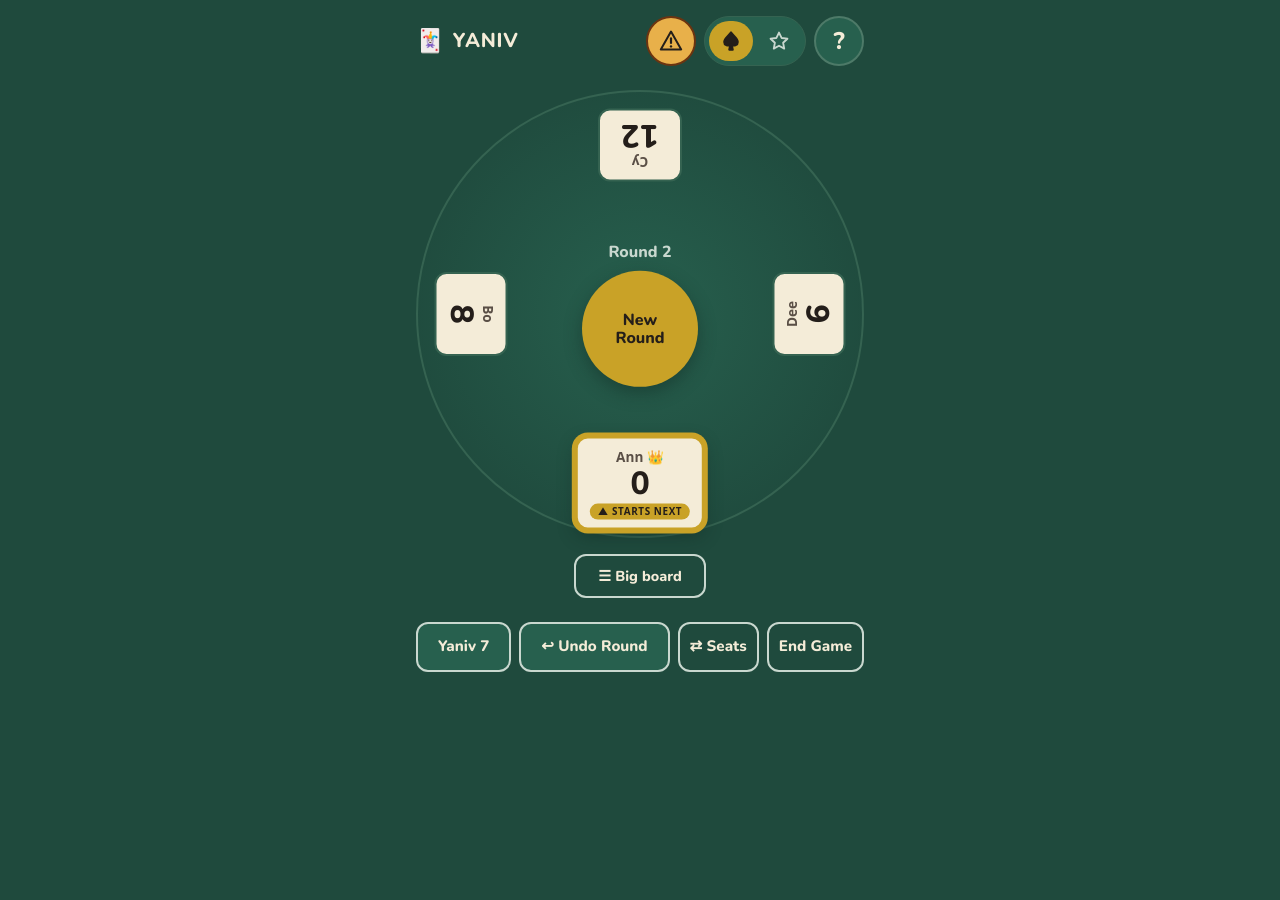
it: End game — the confirmation cannot be bypassed › the DESTRUCTIVE choice is neither the default focus nor the default Enter target
This screenshot has width=1280, height=900.
Click the button "End Game" at [815, 647], box [767, 622, 864, 672]
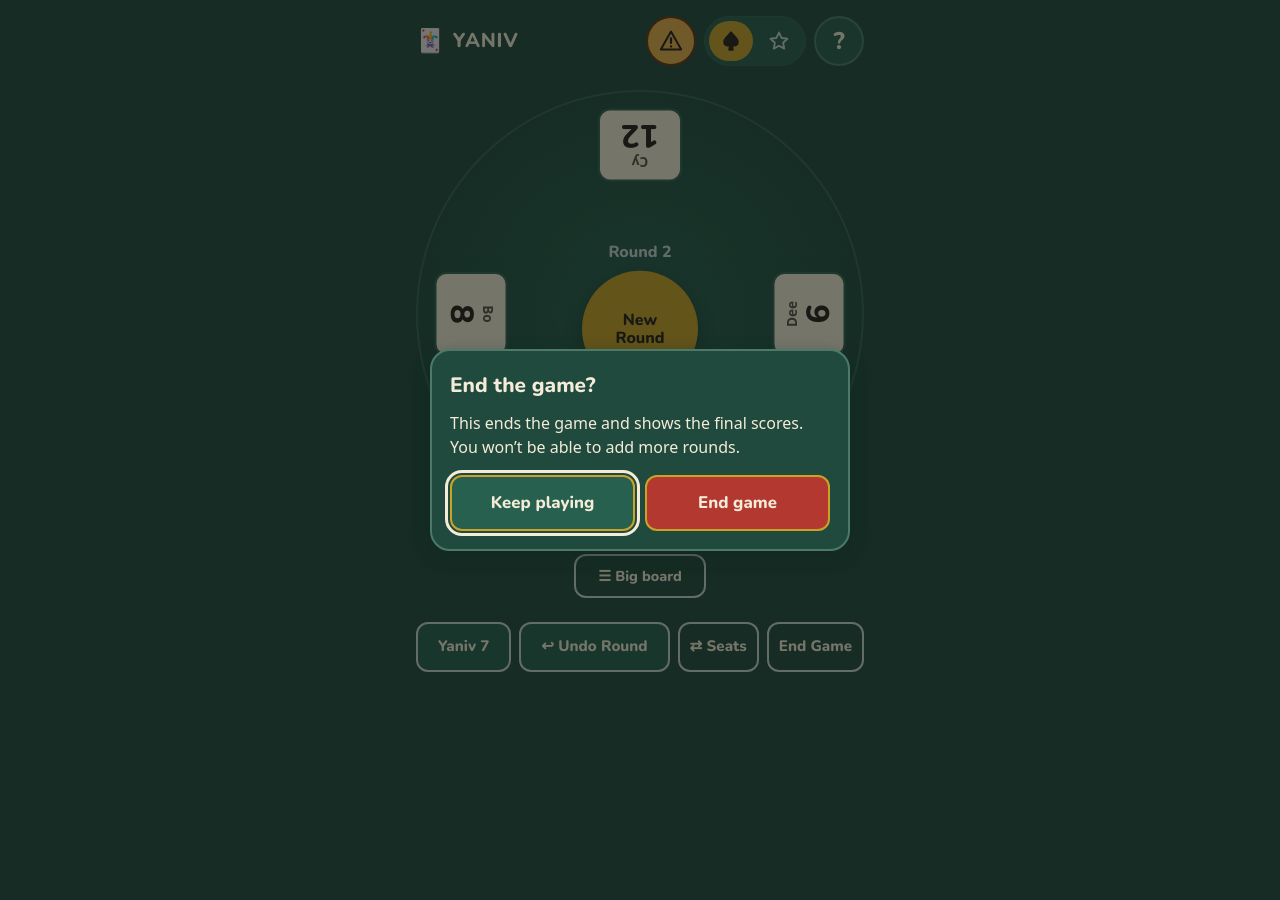
// Pressing Enter/Space right now activates whatever has focus — cancel.
Click the button with test id "confirm-end-game-cancel" at [542, 503], box [450, 475, 635, 531]
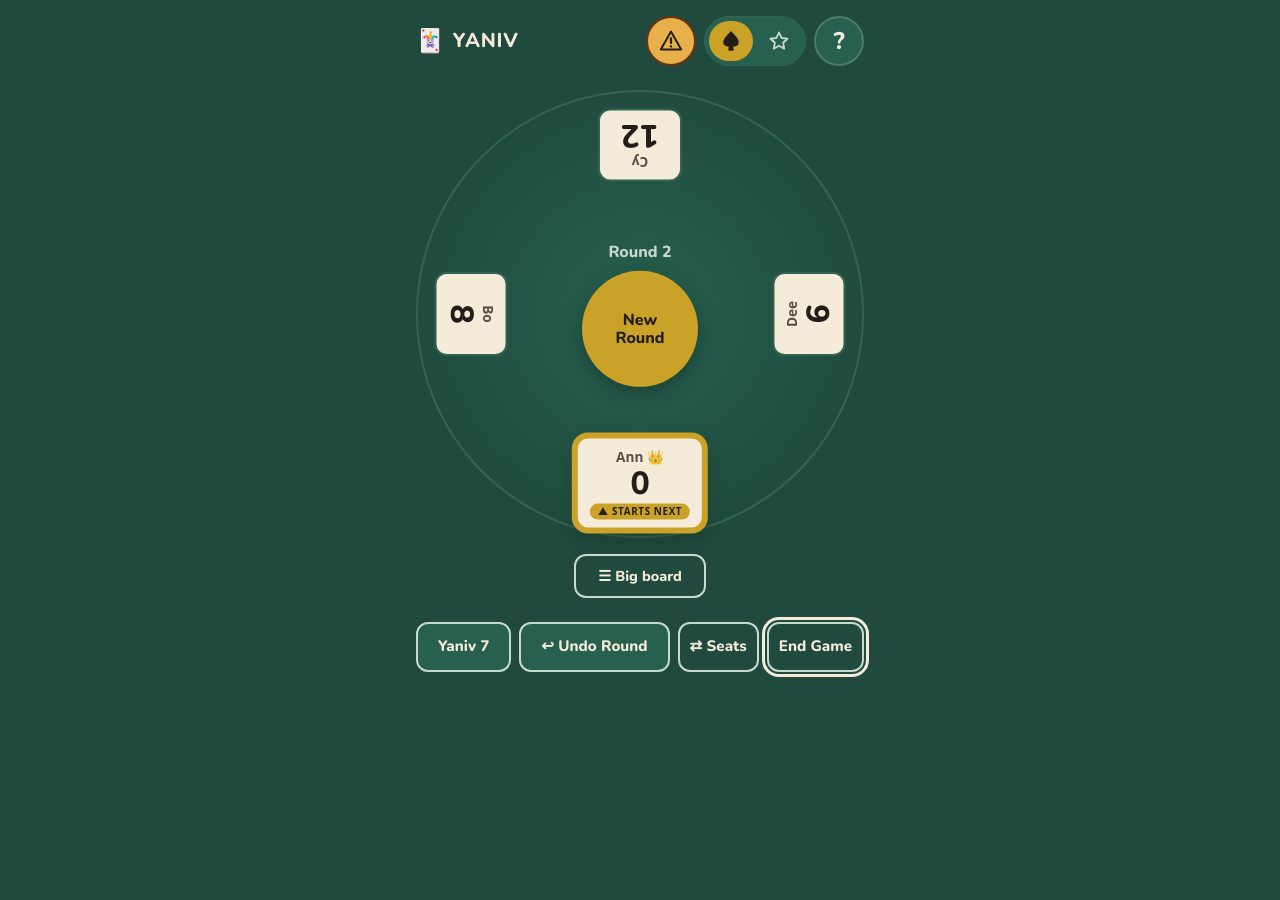
Expected: the element with test id "ring-view" is shown, [416, 90, 864, 538]
Result: the dialog with test id "confirm-end-game" is gone
